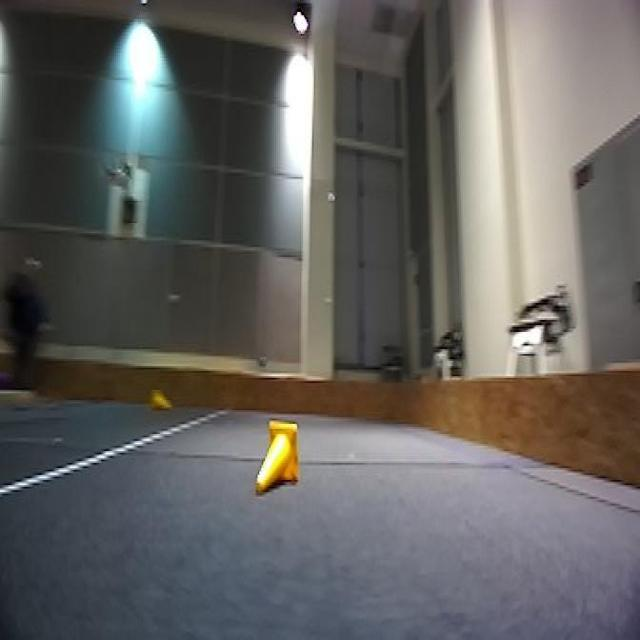frc_cone: (257, 420, 299, 497), (147, 384, 174, 414)
